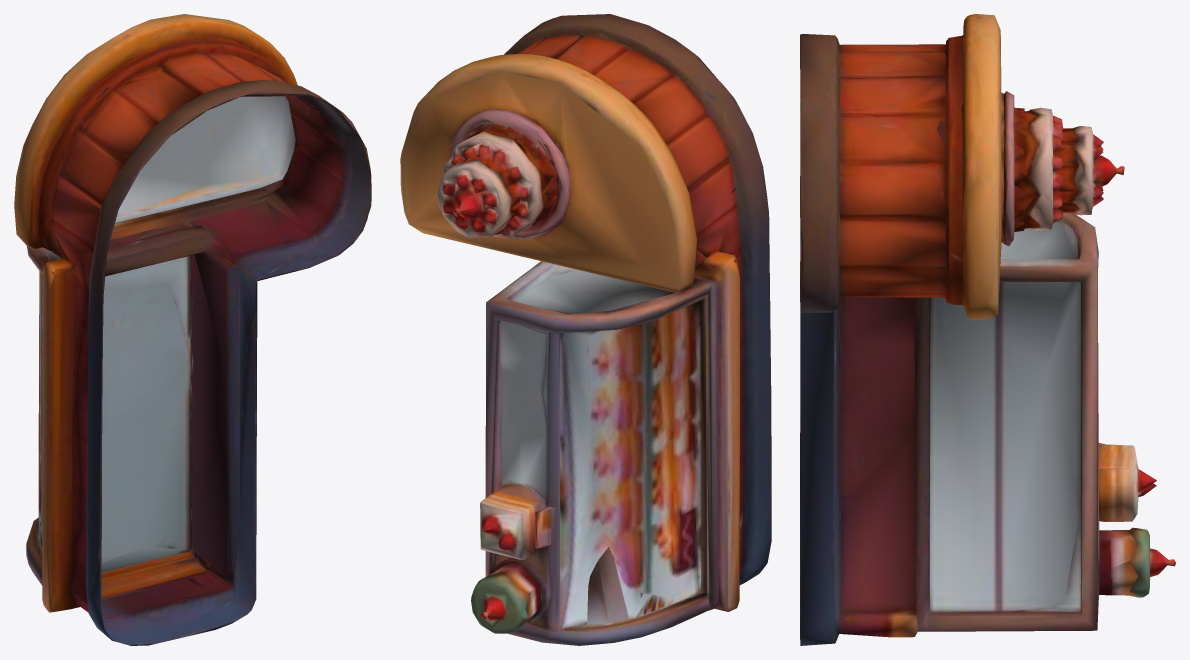
3 views of the same model, side by side, from view 1: azimuth 30°, elevation 25°; view 2: azimuth 150°, elevation 25°; view 3: azimuth 270°, elevation 25° (orthographic). The views are drawn at different scales.
Visible parts, largest first — view 1: material; view 2: material; view 3: material.
Boxes of the visible parts, x1,y1,x2,y2 form: material: (14, 14, 371, 645); material: (400, 14, 771, 645); material: (800, 14, 1175, 645).
Size of the model in its own units: 0.5595 by 1 by 0.5495.
Materials: 1 (1 with a texture image).
